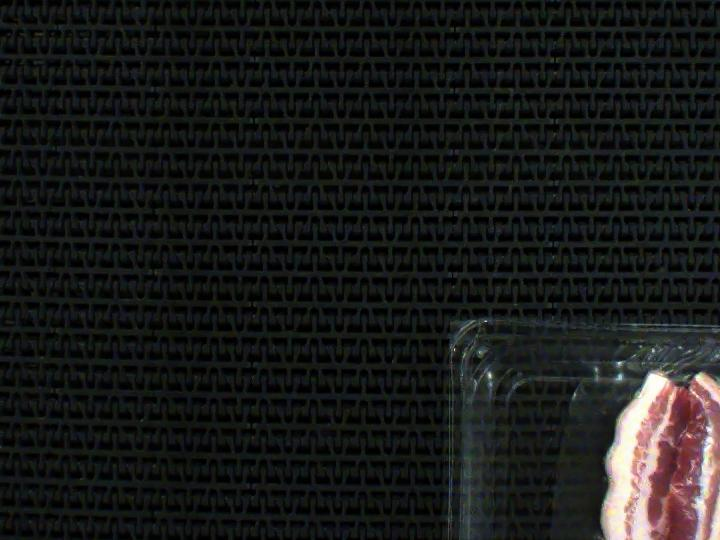unsealed: (576, 368, 720, 522)
